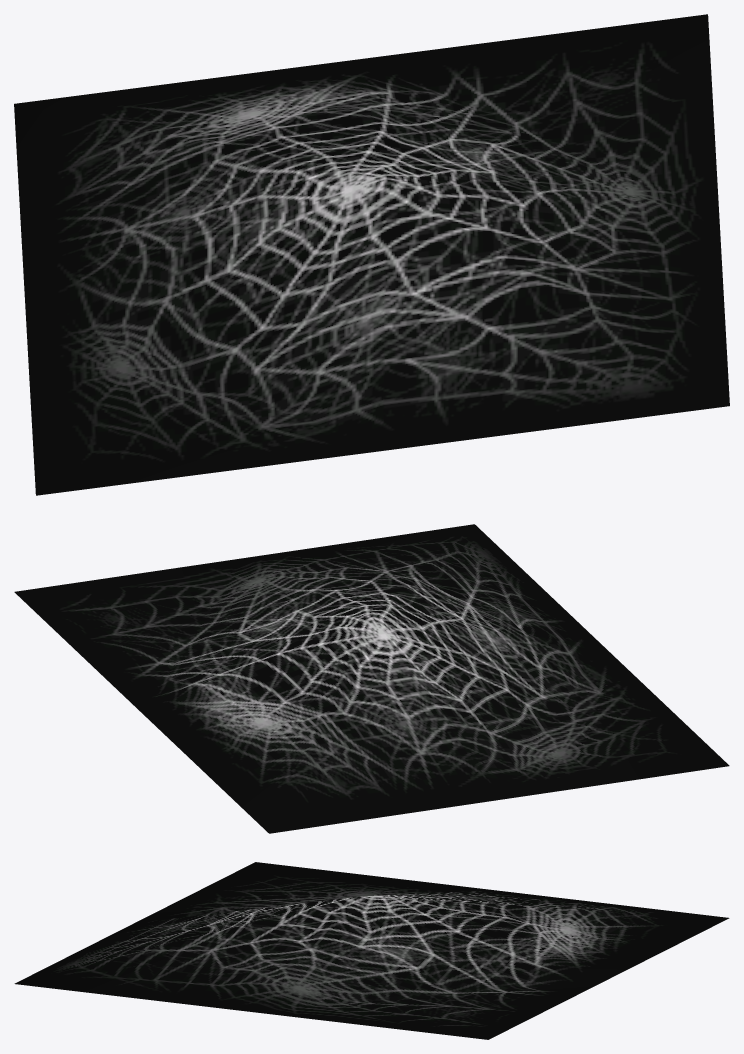
File: MIRKWOOD_PLANE20.fbx
3 renders of one model, top to bottom at view 1: azimuth 30°, elevation 25°; view 2: azimuth 150°, elevation 25°; view 3: azimuth 270°, elevation 25°, orthographic. The views are drawn at different scales.
Visible parts, largest first — view 1: MIRKWOOD_PLANE20; view 2: MIRKWOOD_PLANE20; view 3: MIRKWOOD_PLANE20.
Part boxes in pixels (box(x1,y1,x2,y2)): MIRKWOOD_PLANE20: box(14, 14, 729, 495); MIRKWOOD_PLANE20: box(14, 524, 729, 833); MIRKWOOD_PLANE20: box(14, 862, 729, 1039).
Size of the model in its own units: 148212 by 26881 by 154091.
1 material, 1 textured.
